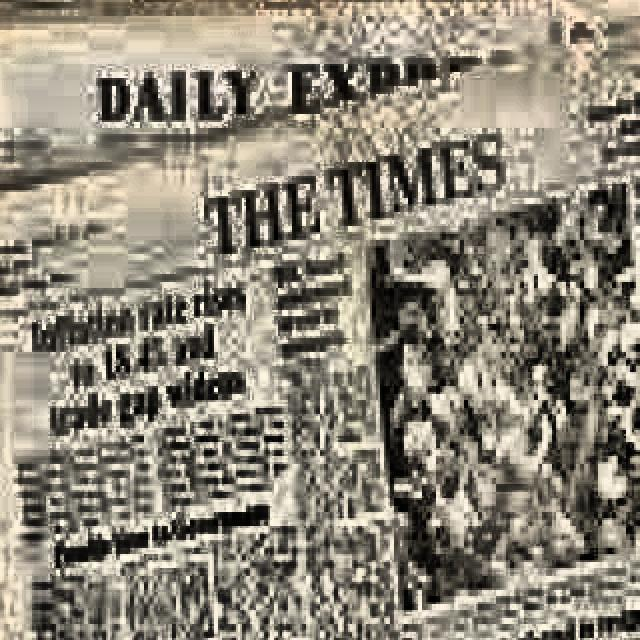paper: (0, 0, 640, 640), (0, 0, 640, 638), (0, 0, 640, 534), (0, 0, 640, 366)
